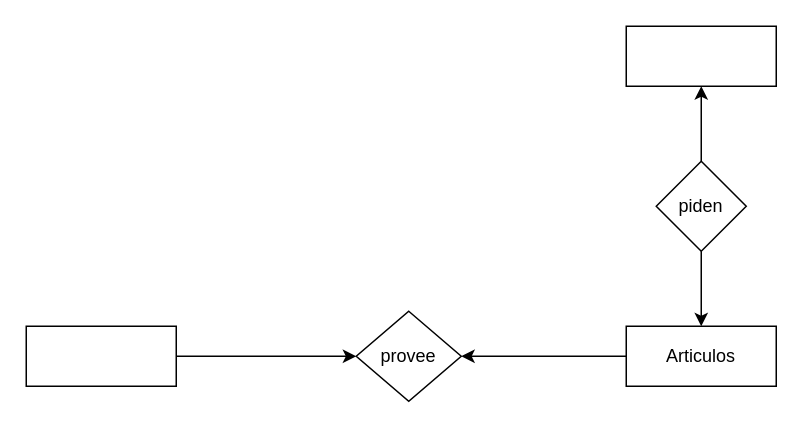
The diagram is 803 pixels wide and 428 high, and some of its shapes have lost their labels. The shapes that lost their labels are listed below. From the top down, each one's box as (x1, y1, x2, y2) in pixels, then its label:
(625, 25, 776, 86): Clientes
(25, 325, 176, 386): Fábricas
